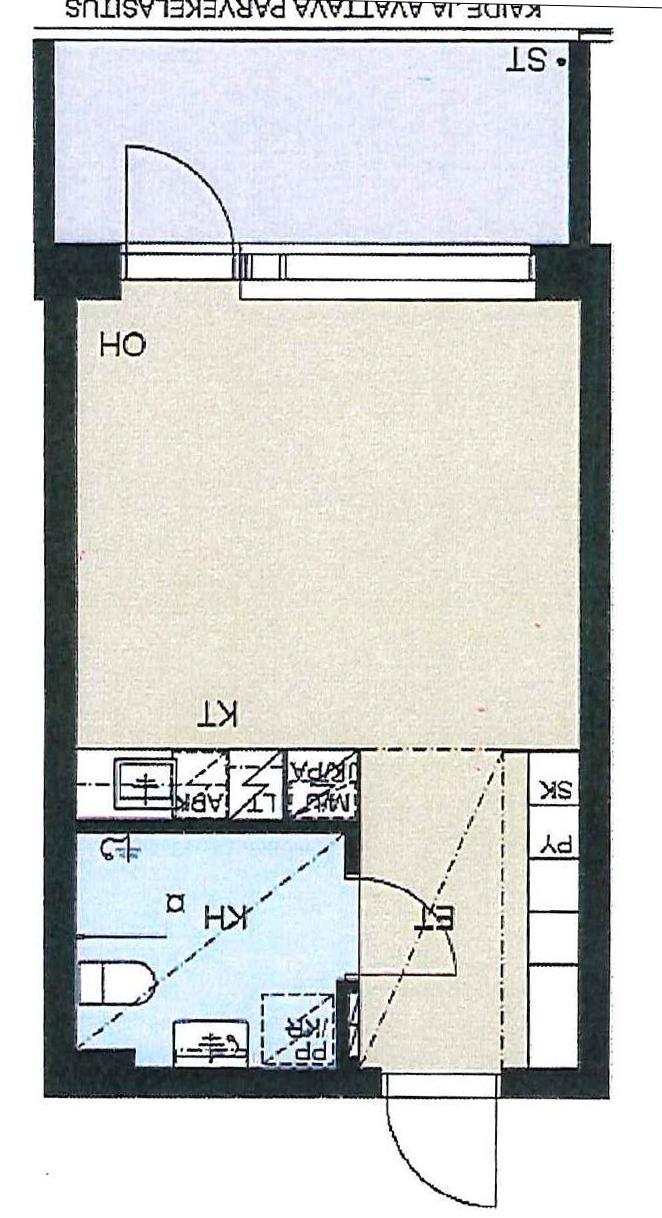bathroom: (77, 830, 347, 1070)
door: (382, 1064, 512, 1213), (118, 134, 238, 285), (338, 867, 467, 991)
perimeter: (41, 240, 617, 1097)
window: (233, 230, 546, 317)
